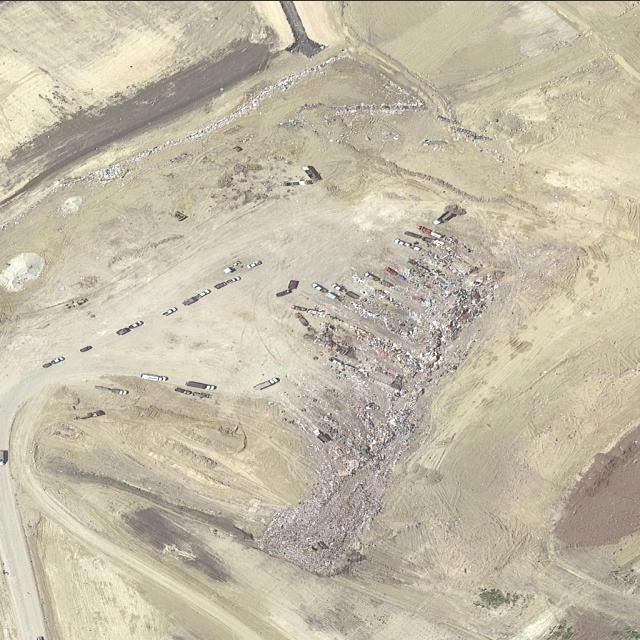dump_site: (191, 199, 524, 591)
